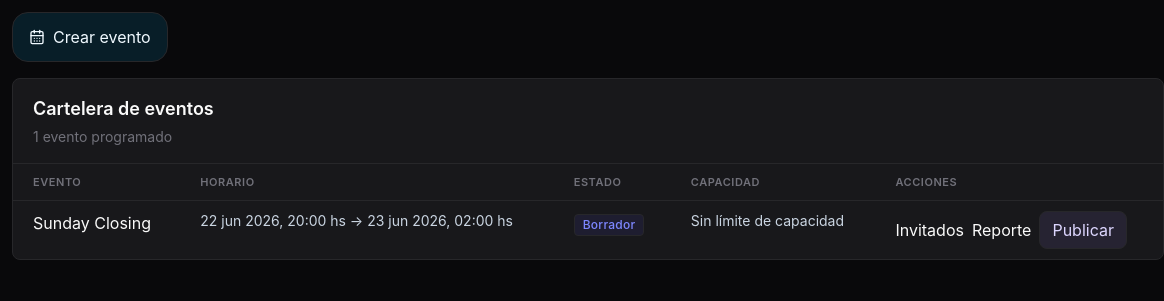
VenueEventsSection › shows the backend publish error message and avoids refresh on failure
The width and height of the screenshot is (1164, 301).
Click the button "Publicar".
click(1083, 230)  # box [1039,211,1127,249]
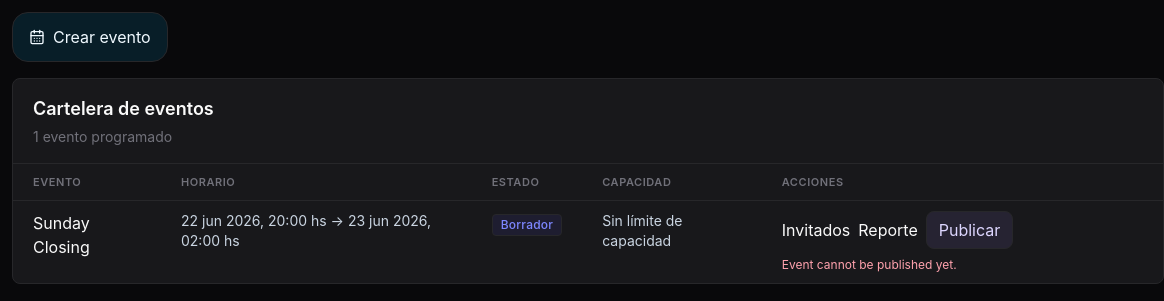
Now the text "Event cannot be published yet." is shown, box [782,257,957,273]
